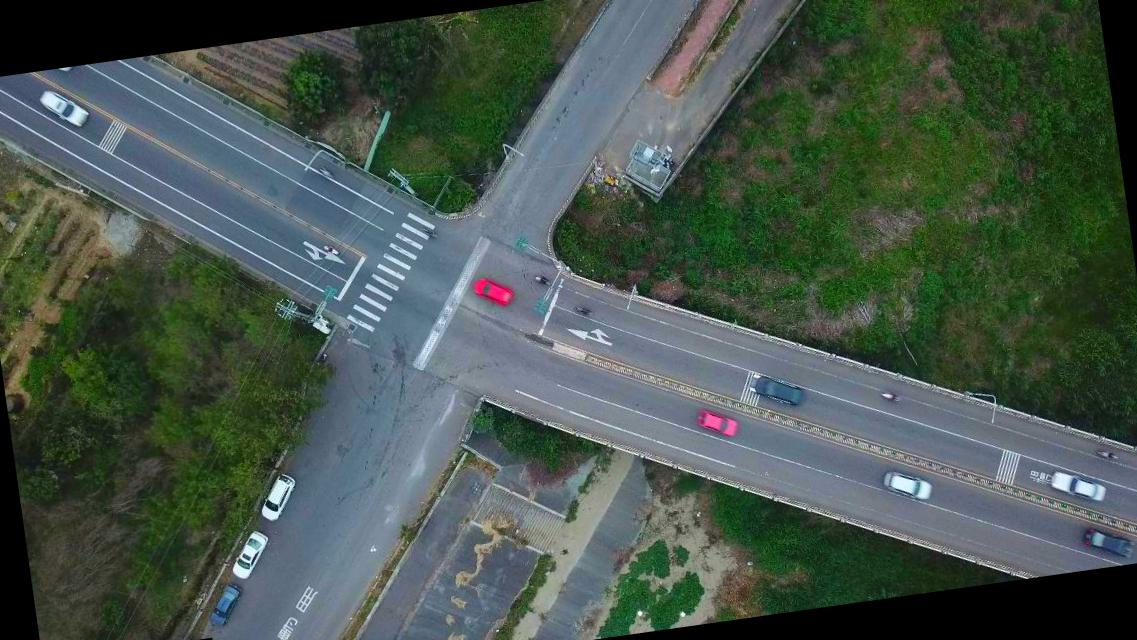vehicle: (1048, 463, 1108, 510), (37, 83, 90, 132), (748, 368, 806, 411), (228, 529, 274, 580), (254, 472, 299, 523), (1082, 522, 1136, 564), (880, 466, 934, 505), (204, 581, 245, 628), (470, 272, 516, 309), (693, 406, 740, 440)
